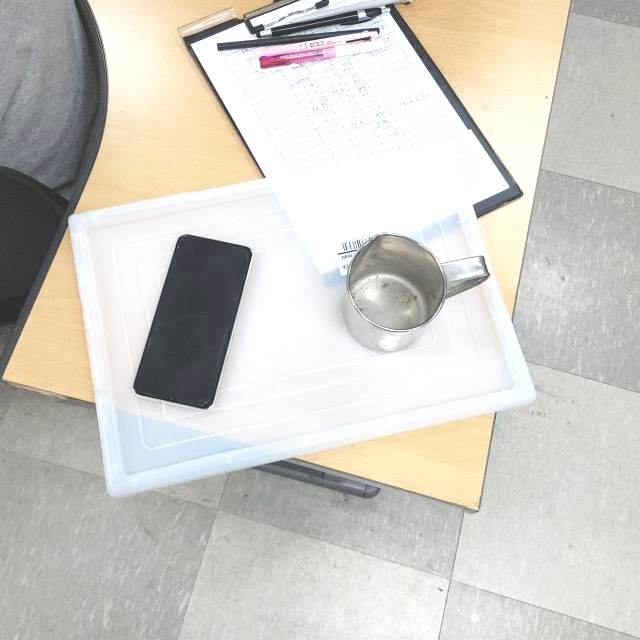cup: (343, 230, 489, 354)
phone: (130, 234, 254, 410)
